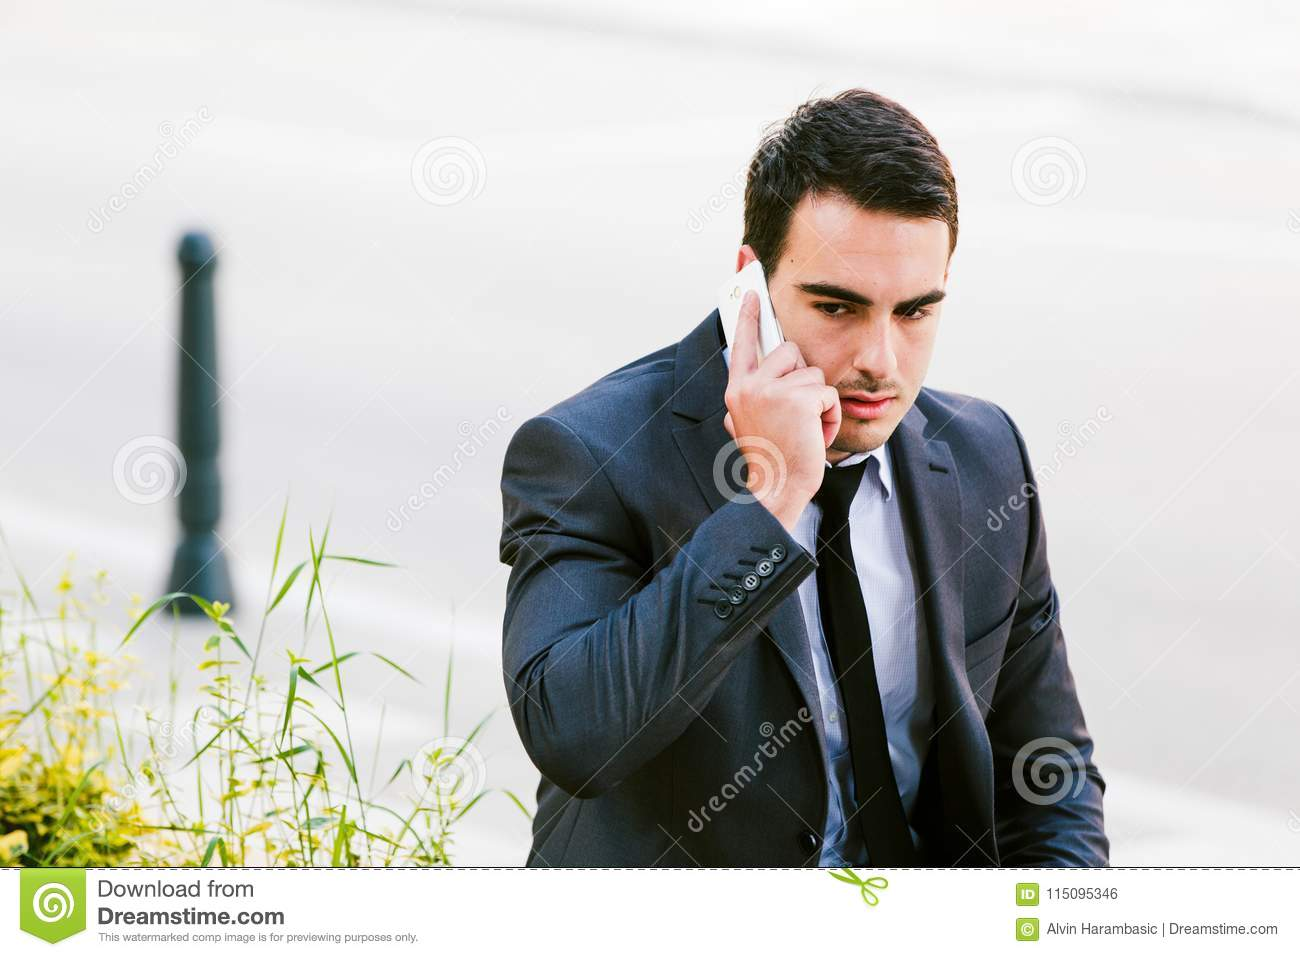phone: (714, 259, 795, 379)
talk: (715, 253, 945, 506)
